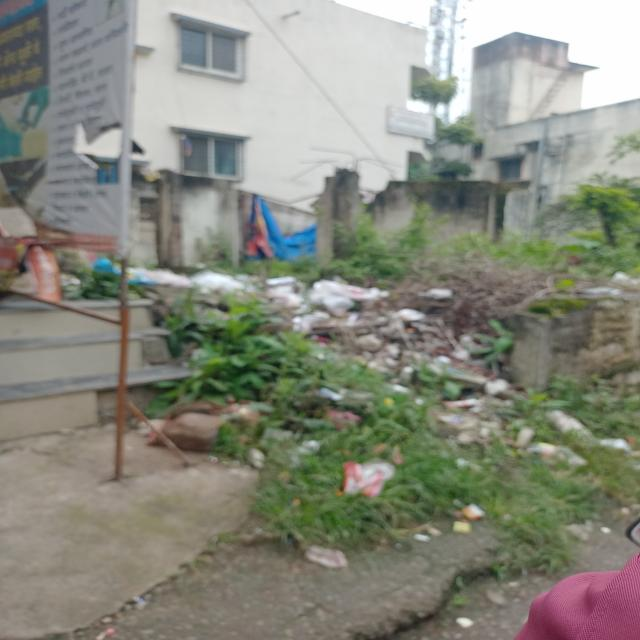garbage: (137, 268, 394, 358), (170, 395, 418, 487)
